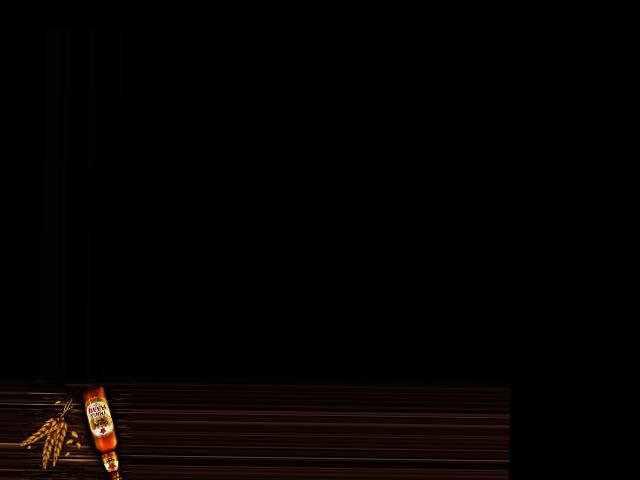beer: (80, 384, 124, 480)
